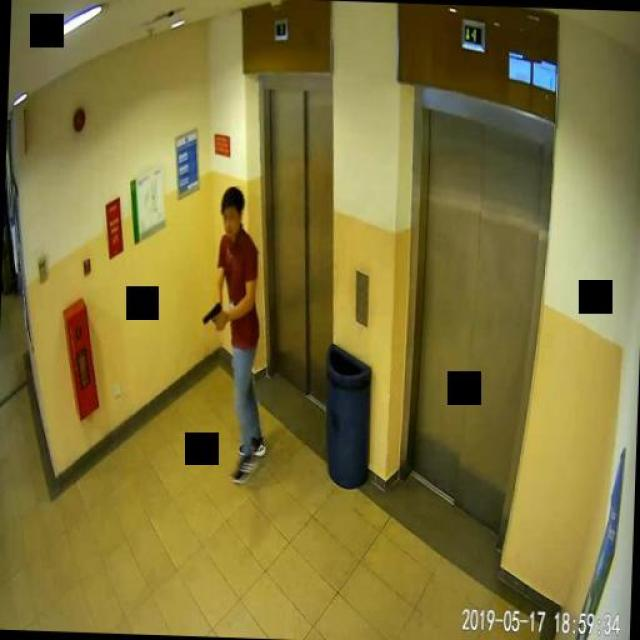gun: (201, 302, 221, 328)
